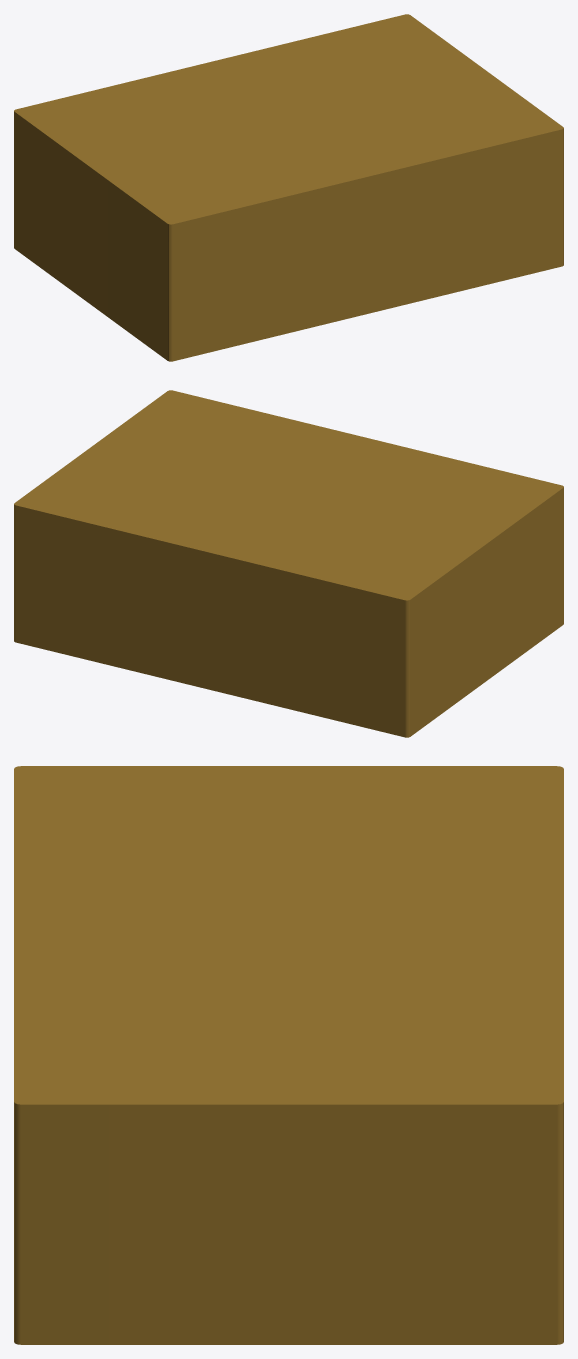
File: Deck.fbx
3 views of the same model, one above another, from view 1: azimuth 30°, elevation 25°; view 2: azimuth 150°, elevation 25°; view 3: azimuth 270°, elevation 25° (orthographic). The views are drawn at different scales.
Visible parts, largest first — view 1: Deck; view 2: Deck; view 3: Deck.
Boxes of the visible parts, x1=… form: Deck: x1=14, y1=14, x2=563, y2=361; Deck: x1=14, y1=390, x2=563, y2=737; Deck: x1=14, y1=766, x2=563, y2=1344.
Size of the model in its own units: 0.9354 by 0.3097 by 0.6425.
